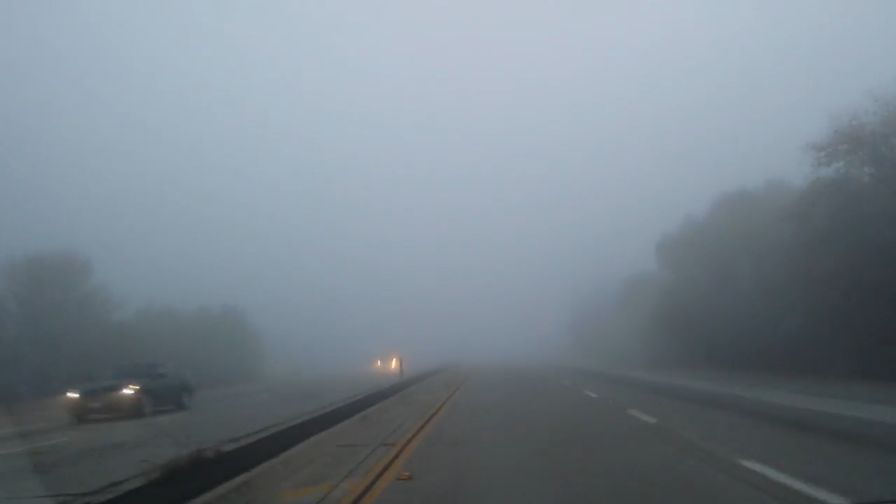car: (59, 361, 194, 423), (372, 353, 402, 374)
